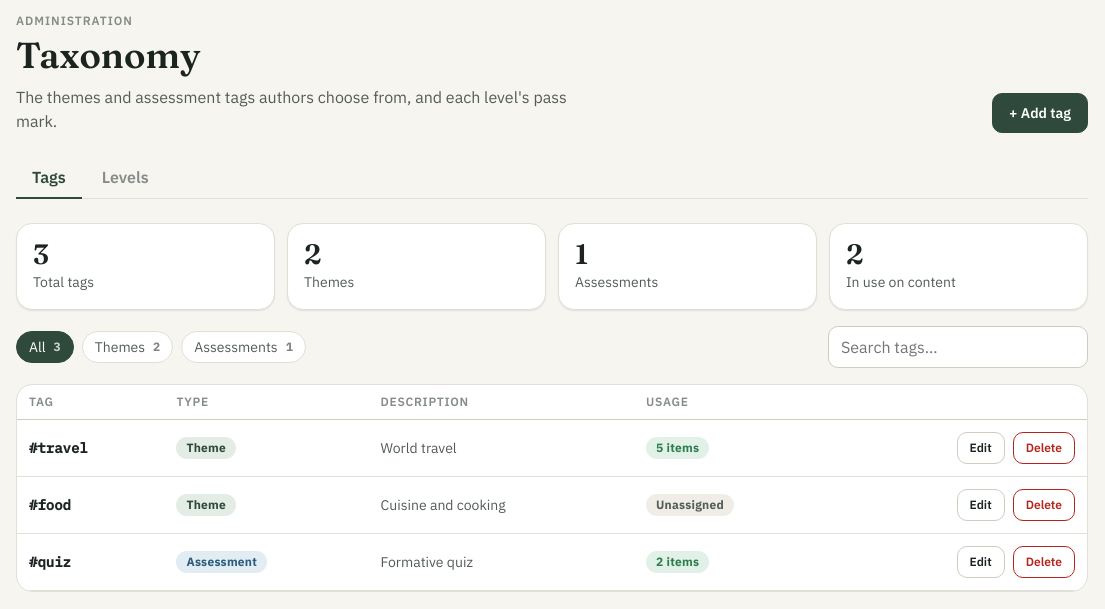
TaxonomyAdminScreen › filters tags when clicking category filter pills
This screenshot has width=1105, height=609.
Click the button with test id "type-filter-theme": [128, 347] box [82,331,173,363]
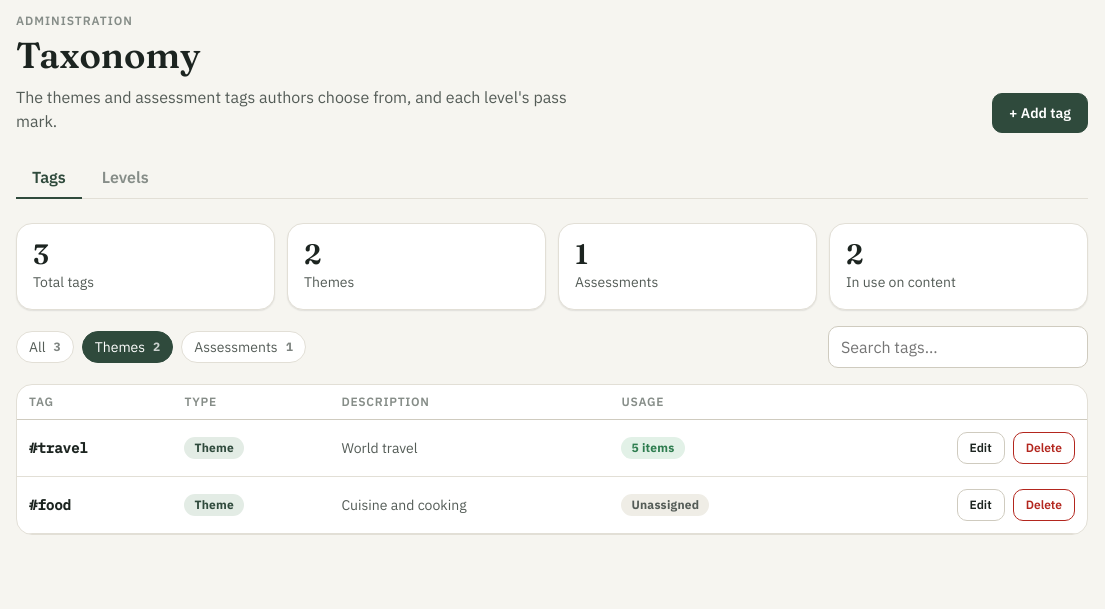
Expected: the text "#travel" is shown, [29,439,88,457]
Now the number of rows with test id "tag-row" is 2, box [17,420,1087,477]; [17,477,1087,534]
Now the text "#quiz" is gone
